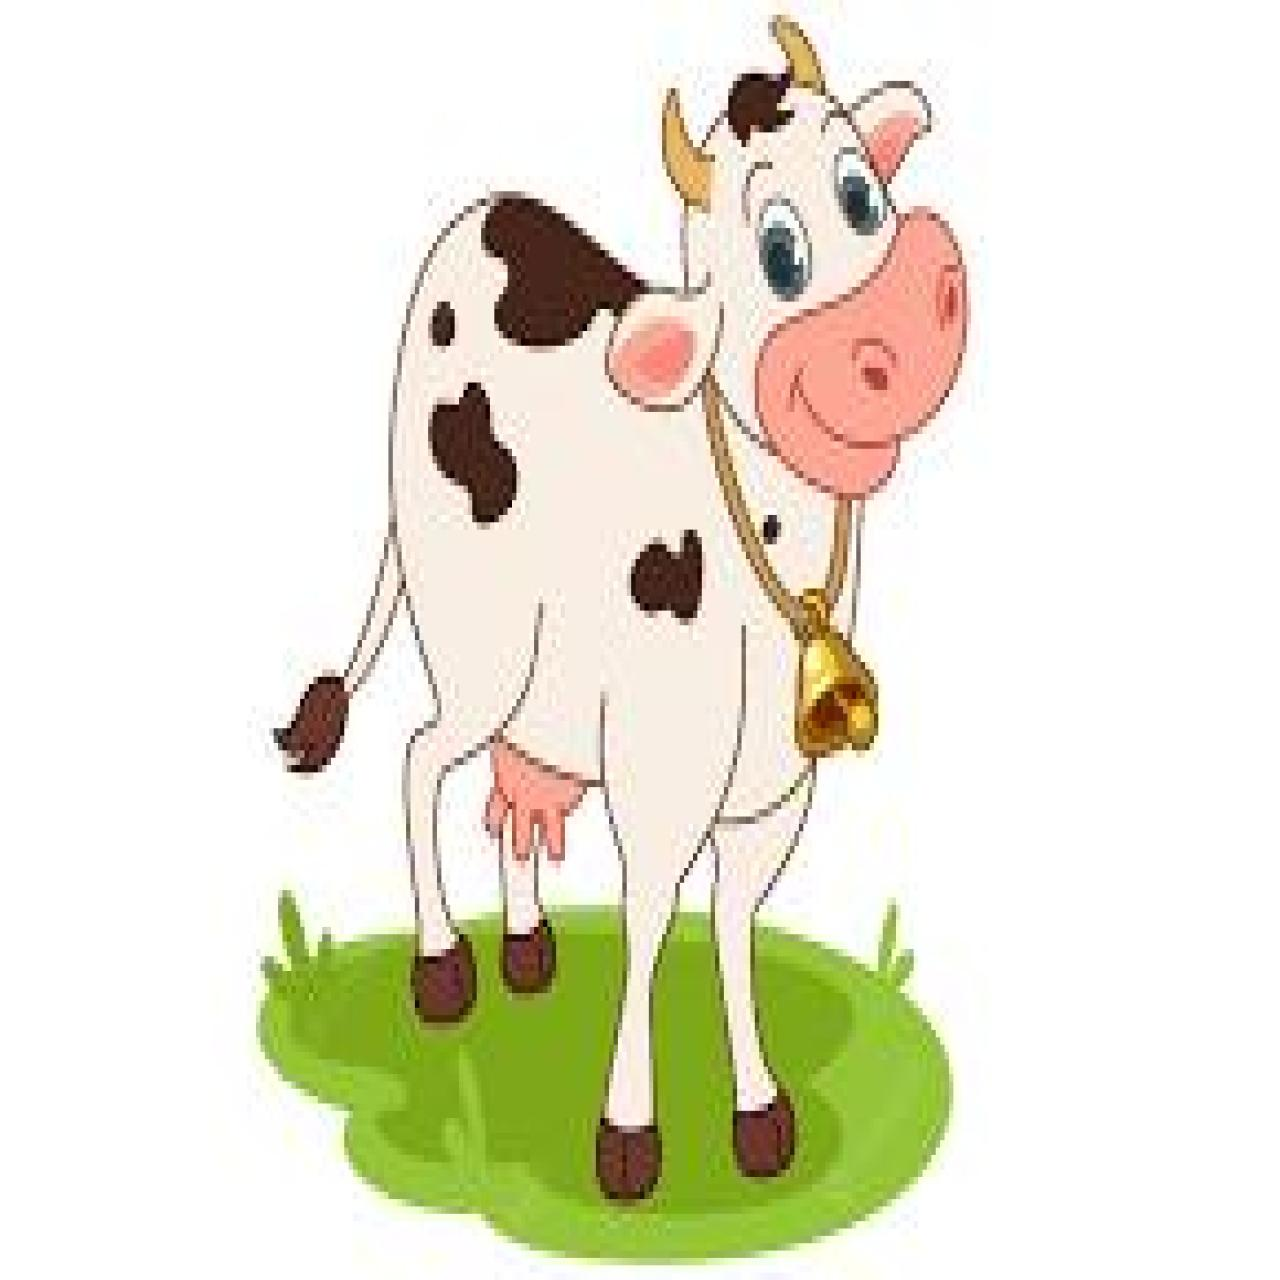cow: (268, 15, 971, 1206)
